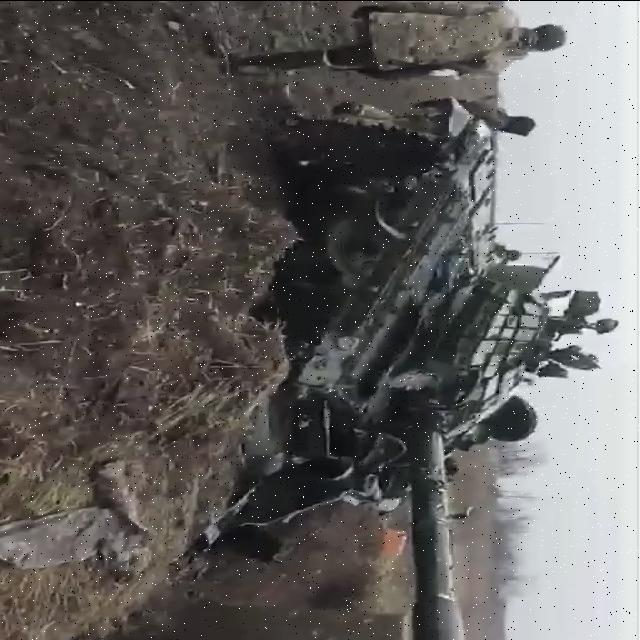TANK: (202, 94, 618, 638)
